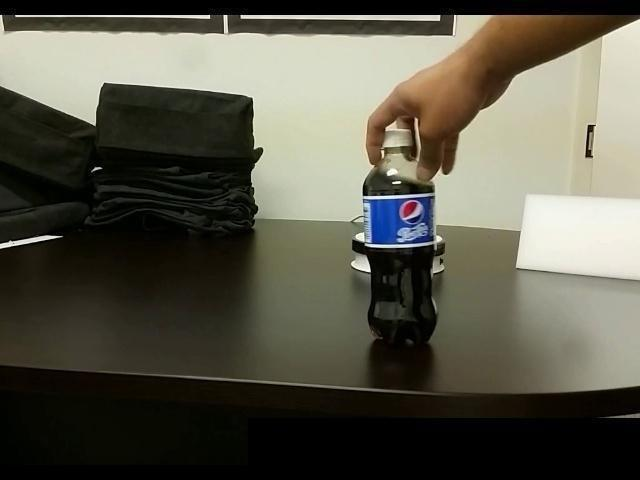bottle-plastic: (358, 124, 442, 351)
